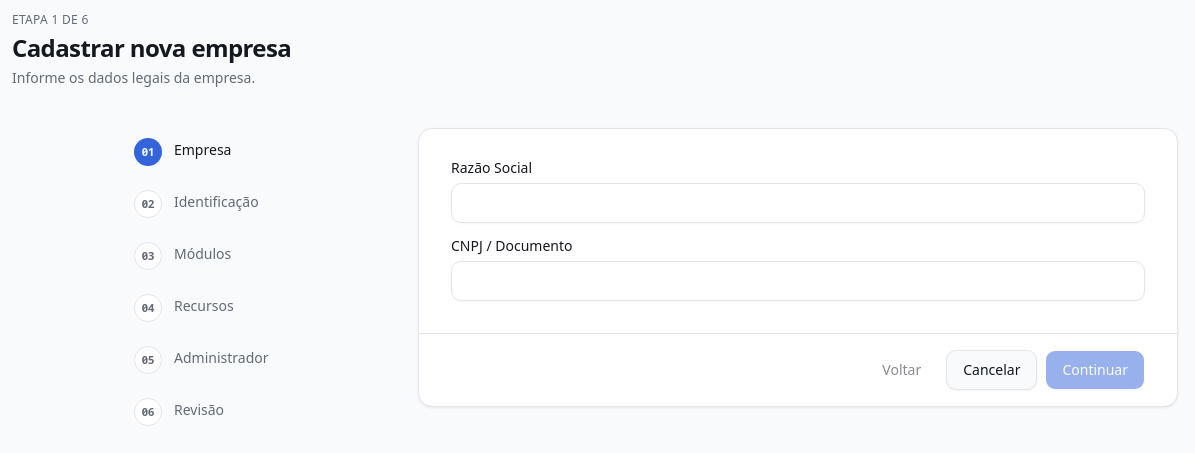
Test: TenantOnboardingWizard › enables Continuar when step 1 is valid and disables it again if a field becomes invalid
This screenshot has width=1195, height=453.
expect the button "Continuar" is disabled: met, box [1045,350,1145,390]
Type "Clube Acme" into the field labelled "Razão Social".
click(798, 203); type("Clube Acme")  # box [451,183,1145,223]
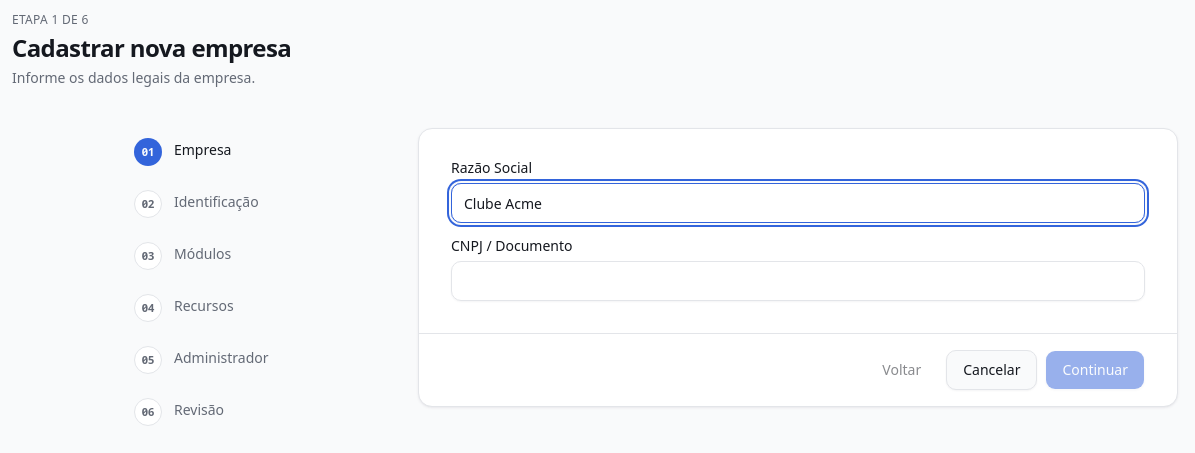
Type "123456789" into the field labelled "CNPJ / Documento".
click(798, 281); type("123456789")  # box [451,261,1145,301]
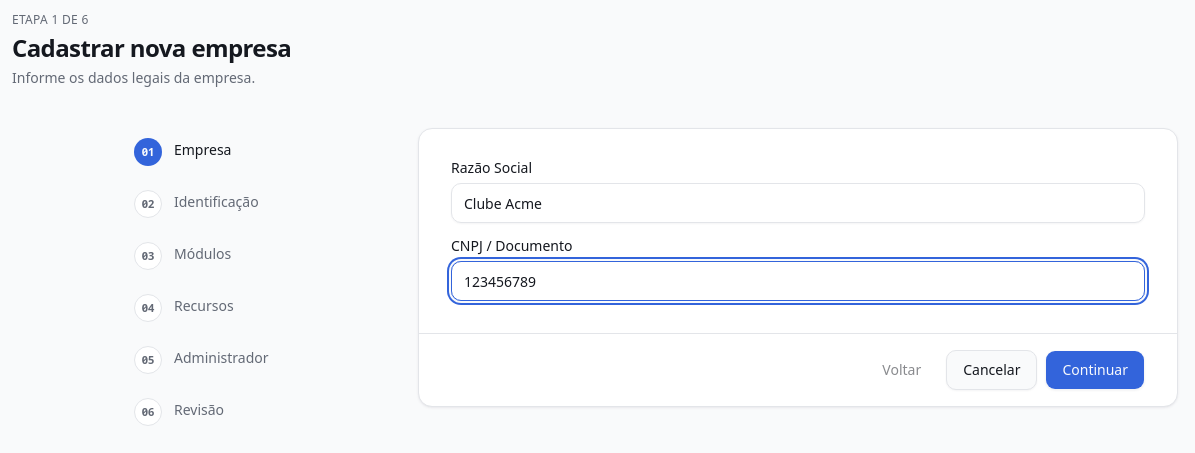
expect the button "Continuar" is enabled: met, box [1045,350,1145,390]
Clear the field labelled "Razão Social" at (798, 203), box [451,183,1145,223]
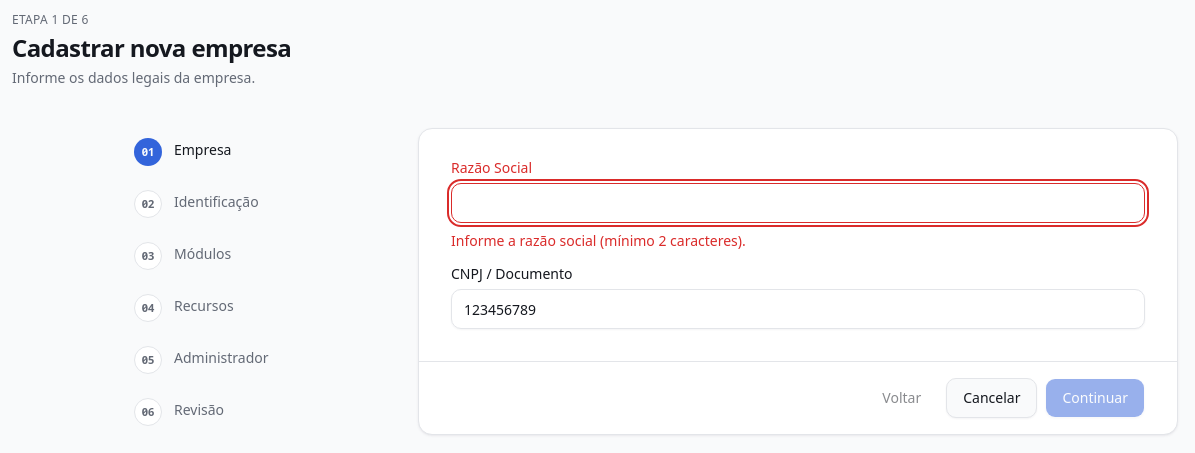
expect the button "Continuar" is disabled: met, box [1045,378,1145,418]
